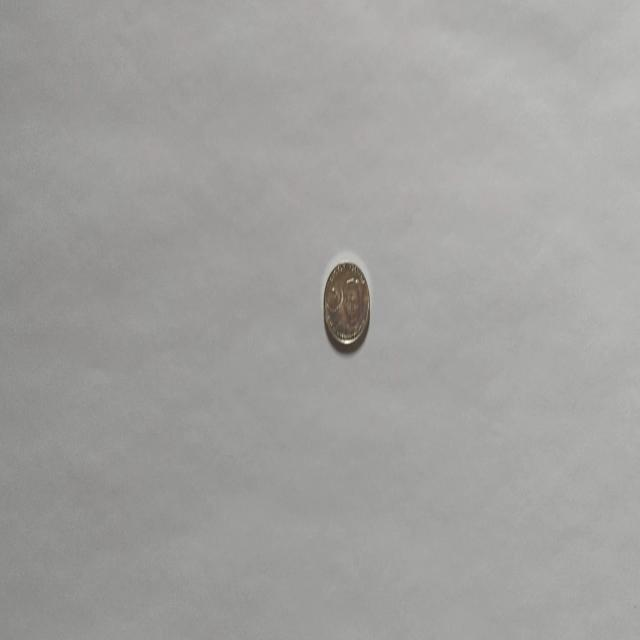seratus rupiah: (322, 260, 370, 348)
